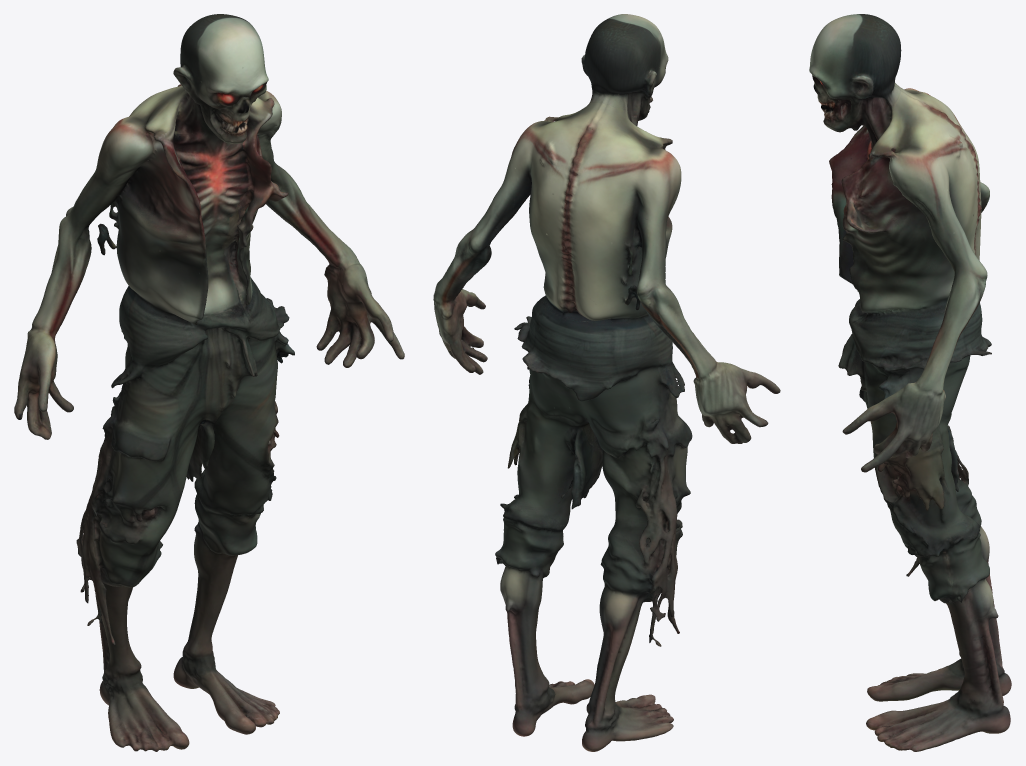
The model's file is zombie2.fbx.
3 views of the same model, side by side, from view 1: azimuth 30°, elevation 25°; view 2: azimuth 150°, elevation 25°; view 3: azimuth 270°, elevation 25° (orthographic). The views are drawn at different scales.
Parts seen in each view (by area): view 1: Mesh_0; view 2: Mesh_0; view 3: Mesh_0.
Part boxes in pixels (x1=…): Mesh_0: x1=14, y1=14, x2=404, y2=751; Mesh_0: x1=433, y1=14, x2=780, y2=751; Mesh_0: x1=809, y1=14, x2=1011, y2=751.
Size of the model in its own units: 105 by 200 by 52.68.
Materials: 1 (1 with a texture image).
